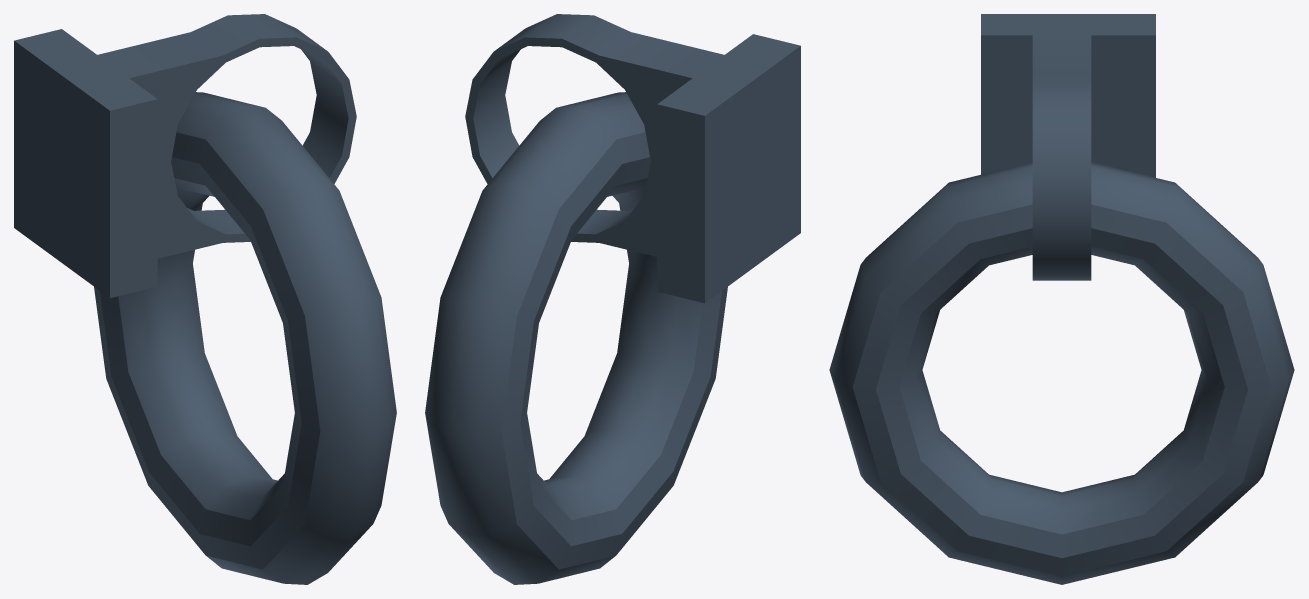
File: wallring.fbx
3 views of the same model, side by side, from view 1: azimuth 30°, elevation 25°; view 2: azimuth 150°, elevation 25°; view 3: azimuth 270°, elevation 25° (orthographic). The views are drawn at different scales.
Visible parts, largest first — view 1: Circle.015; view 2: Circle.015; view 3: Circle.015.
Part boxes in pixels (x1,y1,x2,y2): Circle.015: (14, 14, 396, 584); Circle.015: (425, 14, 800, 584); Circle.015: (829, 14, 1294, 584).
Size of the model in its own units: 0.393 by 0.7397 by 0.6306.
